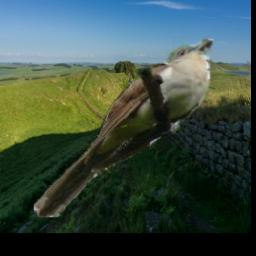Cuckoo: (33, 40, 212, 218)
